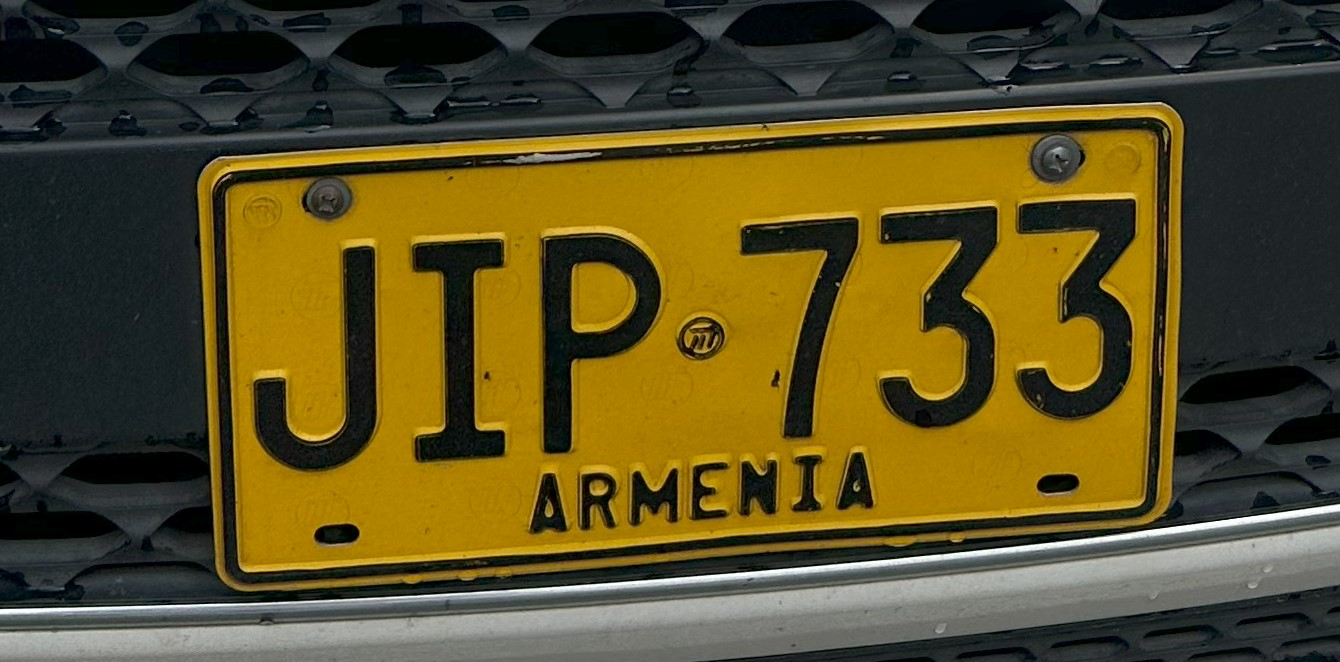number plate: (199, 105, 1181, 589)
